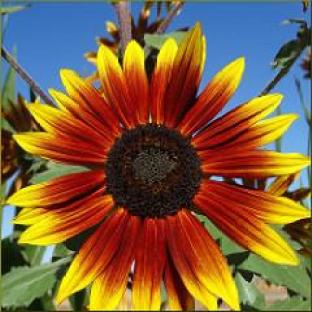sunflower: (4, 23, 312, 312)
